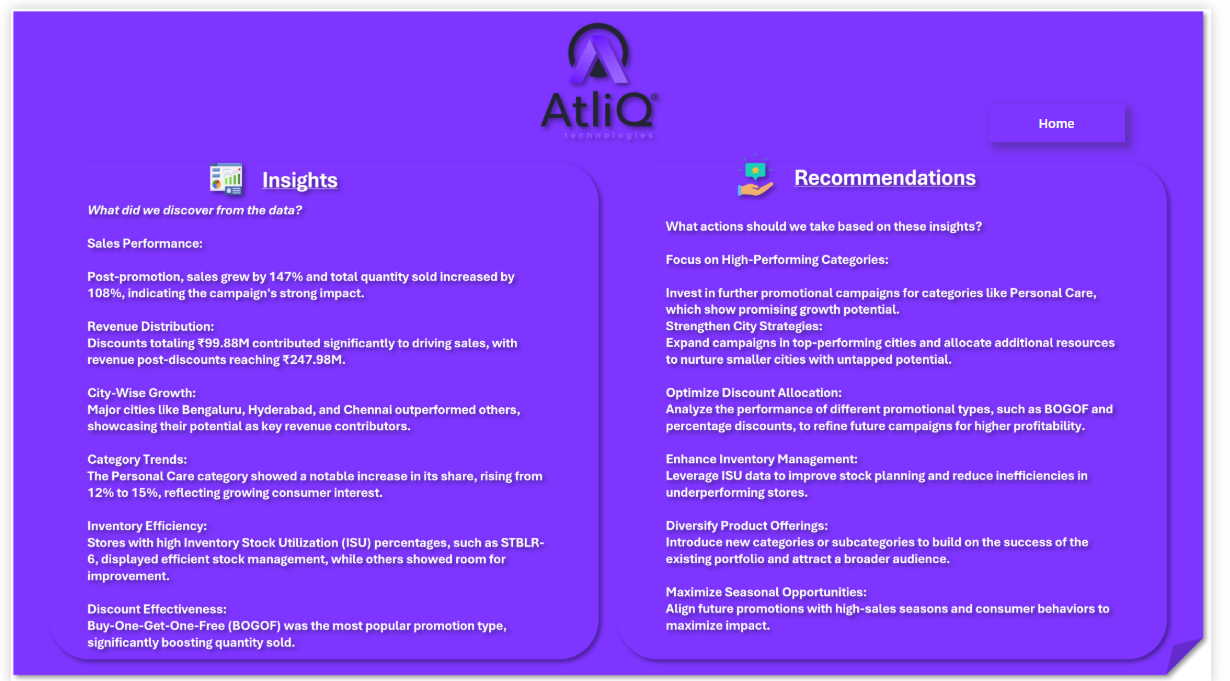

Layout of this report page (visuals, bound fields, positions):
{"tool":"powerbi","page":{"name":"Executive Summary","canvas":[1600,900],"ordinal":3},"visuals":[{"type":"pageNavigator","box":[1303.3,126.7,181.7,50],"z":0}]}

Visuals, with their boxes in screenshot pixels (x1, y1, x2, y2), scaled from the page's 1600x900 canvas onto the 1230x681 screenshot:
pageNavigator: 1002/96/1142/134
